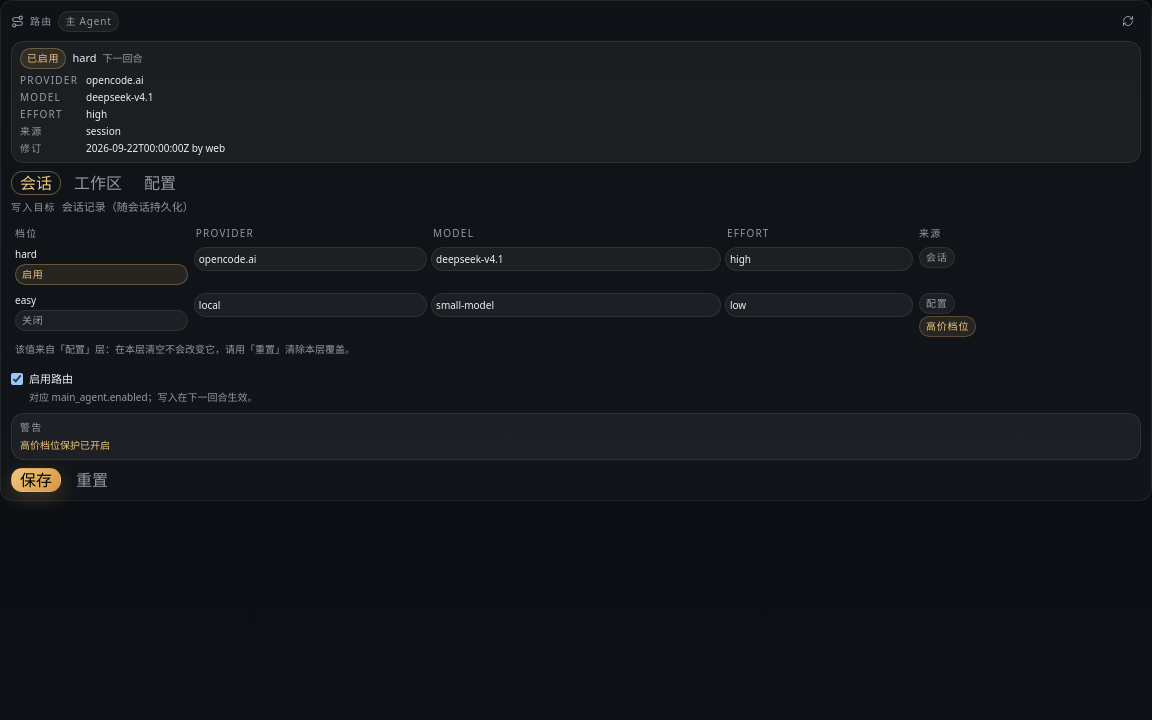
Scenario: SessionDetailRoutingSection › 无改动时保存不发请求
Click the button "保存". click: click(36, 480)
box: [11,468,61,492]
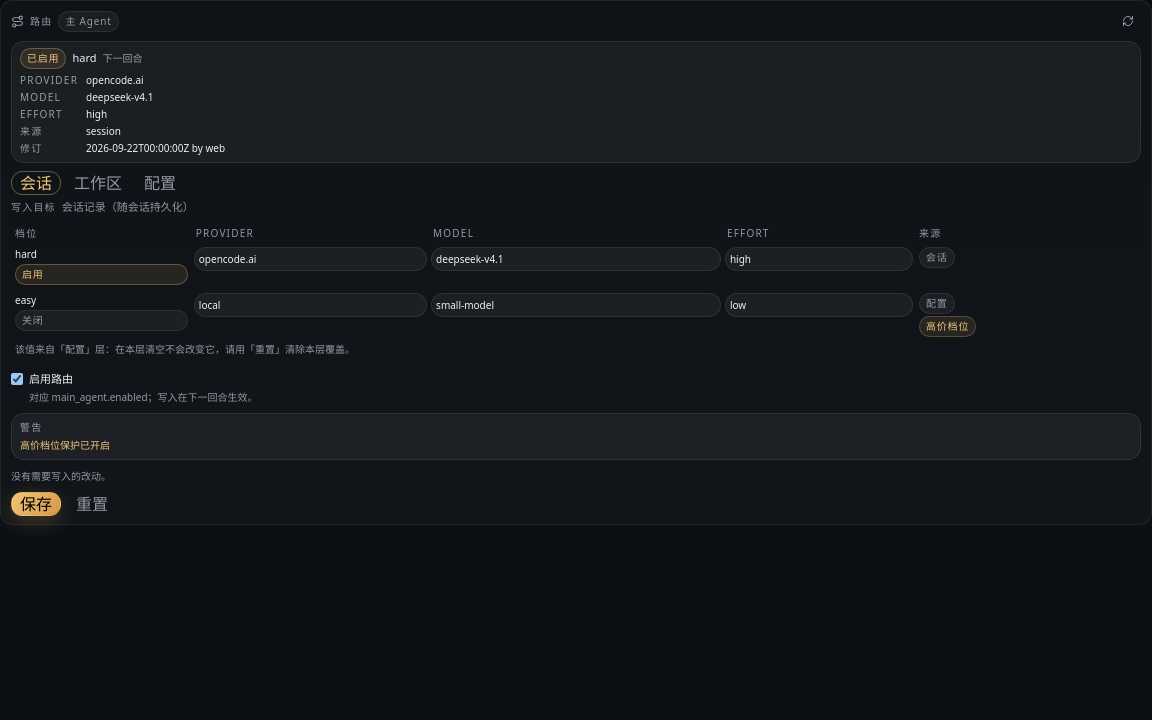
Now the text "没有需要写入的改动。" is shown, box [11,469,111,483]
